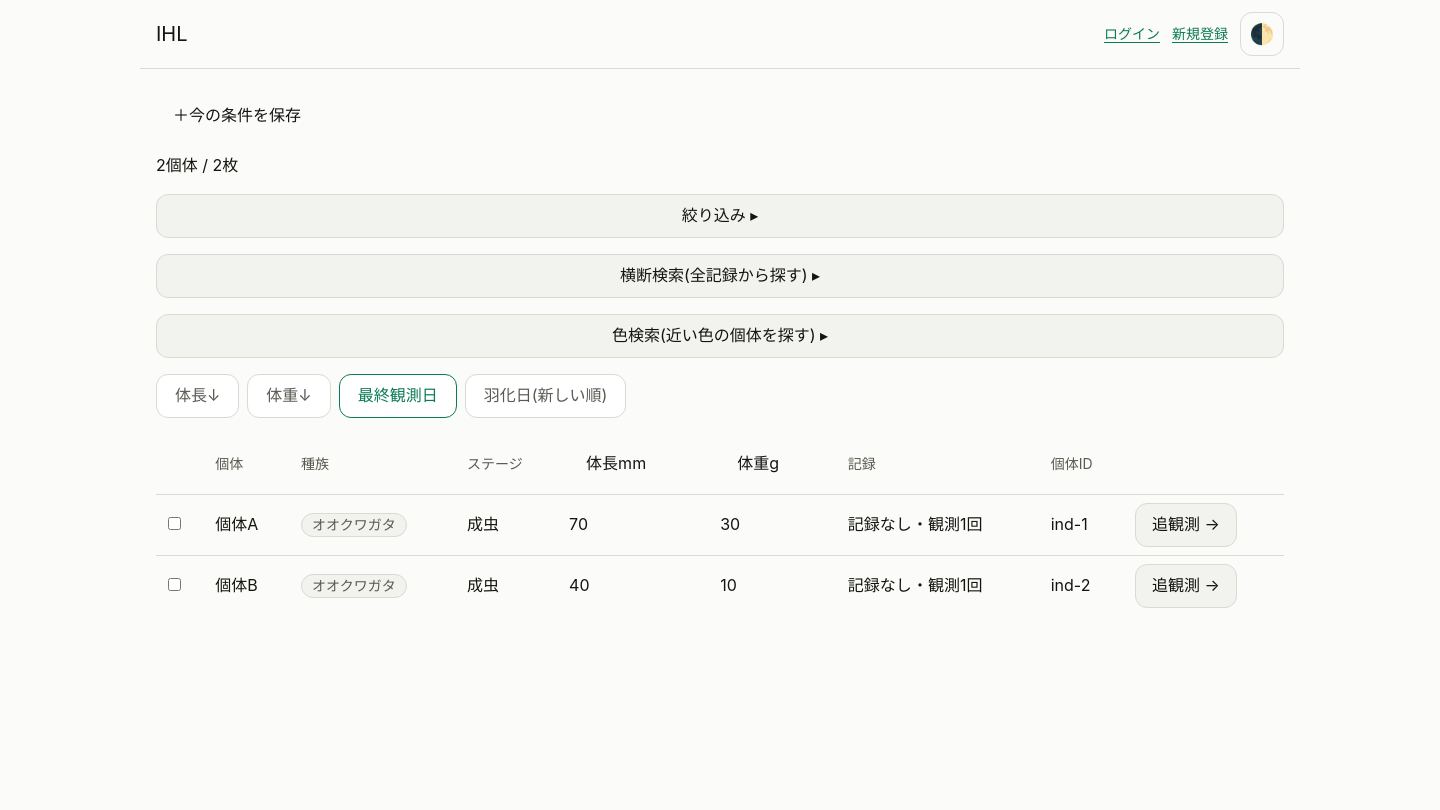
Test: T4: NumericFilterRow — 以上/以下/付近の3ボタン常時表示クリック選択 › 既定は「付近」で中心値/幅の入力が出る
Check: the text "2個体 / 2枚" is shown, box [156, 155, 238, 175]
Click the button "絞り込み ▸".
click(720, 216)  # box [156, 194, 1284, 238]
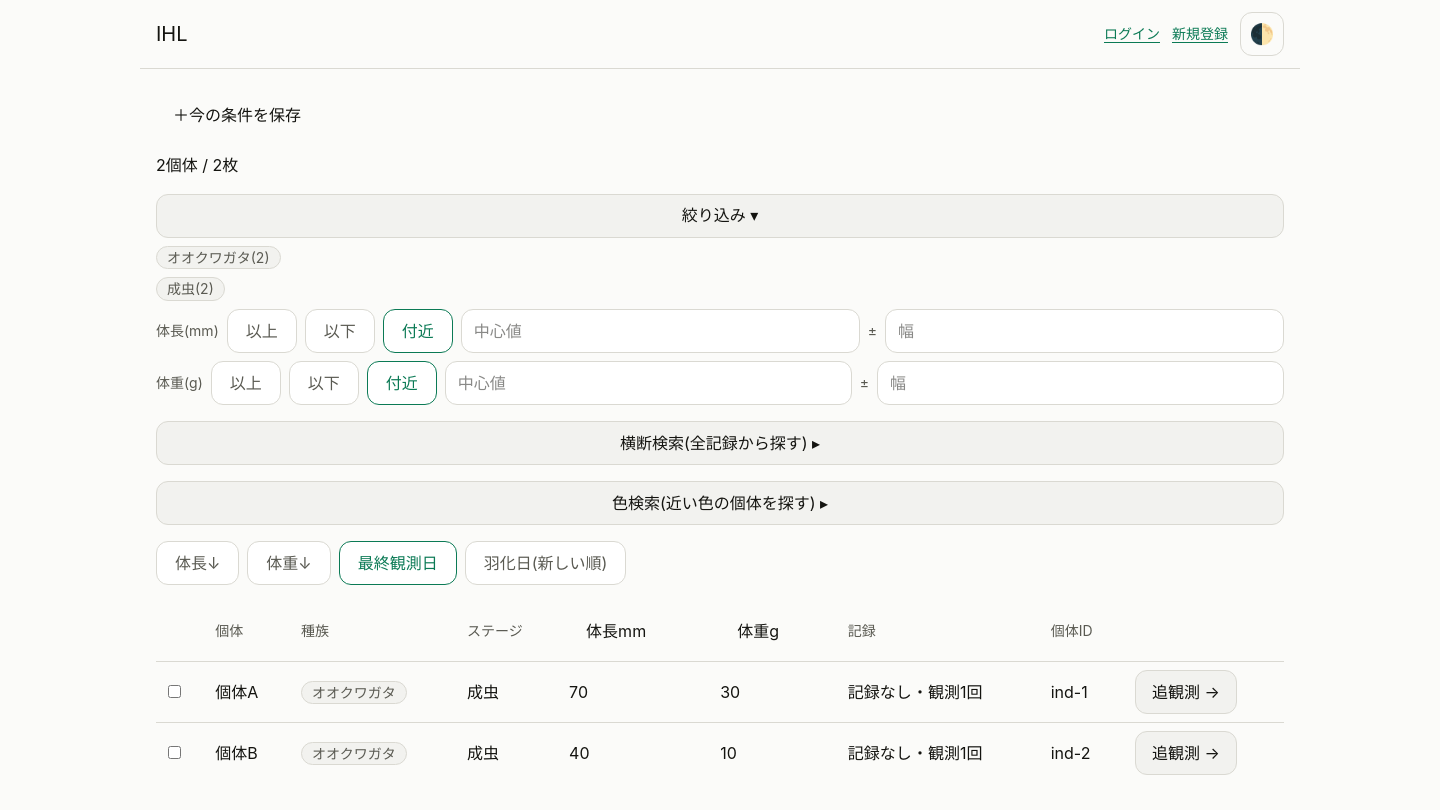
Check: the text "体長(mm)" is shown, box [156, 320, 219, 342]
Check: the number field with placeholder "中心値" in the row of "体長(mm)" is shown, box [461, 309, 860, 353]
Check: the number field with placeholder "幅" in the row of "体長(mm)" is shown, box [885, 309, 1284, 353]
